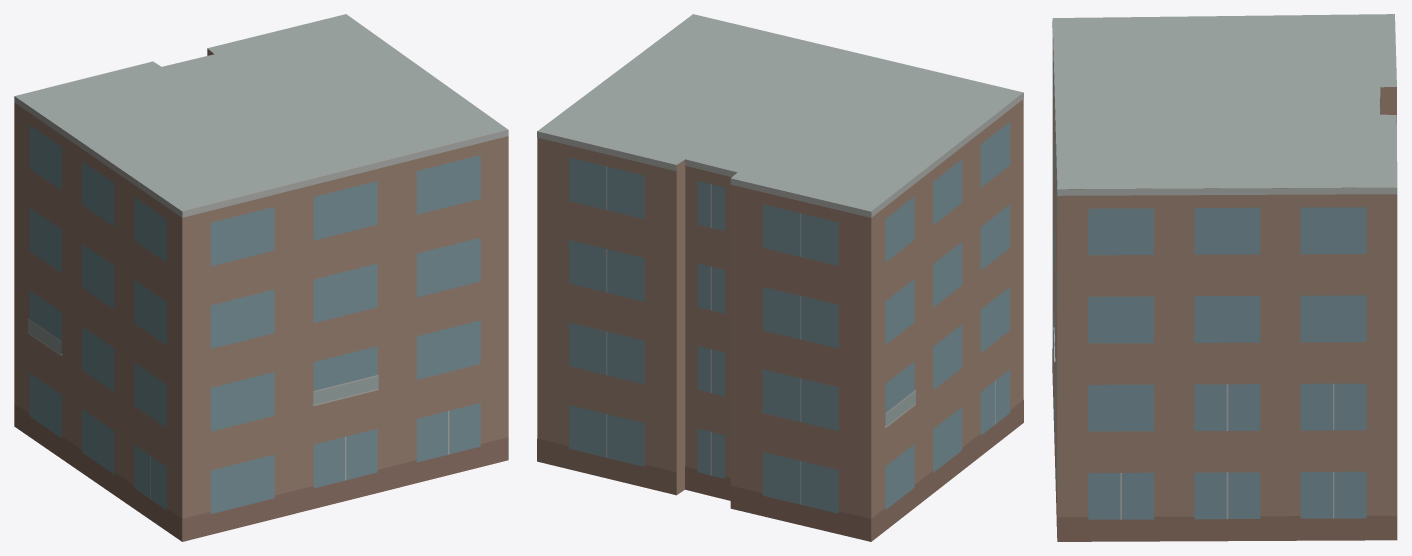
Rendered from survey-upis-32895005.glb.
3 renders of one model, left to right at view 1: azimuth 30°, elevation 25°; view 2: azimuth 150°, elevation 25°; view 3: azimuth 270°, elevation 25°, orthographic. The views are drawn at different scales.
Visible parts, largest first — view 1: survey-upis-32895005.tmp; view 2: survey-upis-32895005.tmp; view 3: survey-upis-32895005.tmp.
Part boxes in pixels (x1,y1,x2,y2): survey-upis-32895005.tmp: (14,14,508,541); survey-upis-32895005.tmp: (537,14,1023,541); survey-upis-32895005.tmp: (1052,14,1397,541).
Bounding box in the file's own units: 13.76 × 12.9 × 11.44.
